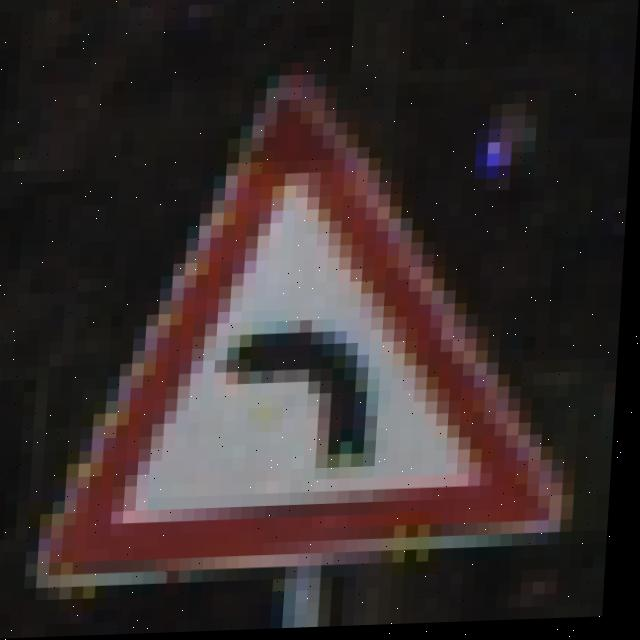left_turn: (43, 82, 587, 560)
